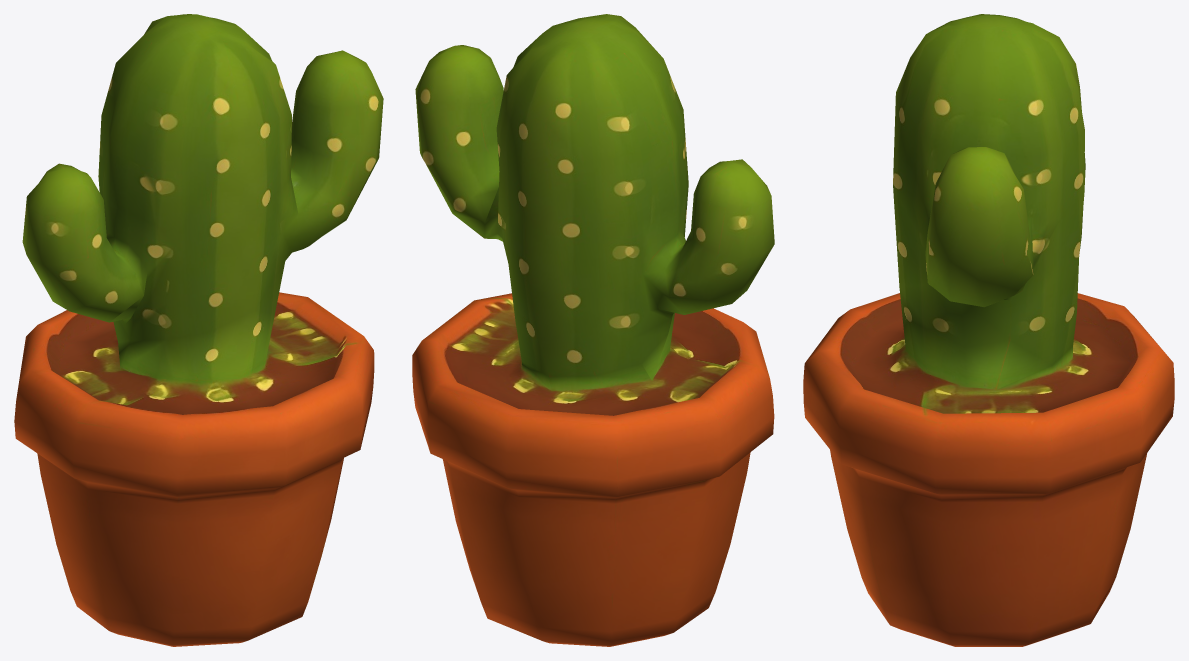
File: cactus_tripo.glb
3 views of the same model, side by side, from view 1: azimuth 30°, elevation 25°; view 2: azimuth 150°, elevation 25°; view 3: azimuth 270°, elevation 25° (orthographic).
Parts seen in each view (by area): view 1: tripo_node_a7ee10d3-8acc-4273-b1d2-a1e5057b062f; view 2: tripo_node_a7ee10d3-8acc-4273-b1d2-a1e5057b062f; view 3: tripo_node_a7ee10d3-8acc-4273-b1d2-a1e5057b062f.
Boxes of the visible parts, bbox=[...] form: tripo_node_a7ee10d3-8acc-4273-b1d2-a1e5057b062f: bbox=[14, 14, 383, 646]; tripo_node_a7ee10d3-8acc-4273-b1d2-a1e5057b062f: bbox=[412, 14, 774, 646]; tripo_node_a7ee10d3-8acc-4273-b1d2-a1e5057b062f: bbox=[803, 14, 1174, 646].
Size of the model in its own units: 0.6099 by 0.9779 by 0.563.
1 material, 1 textured.
